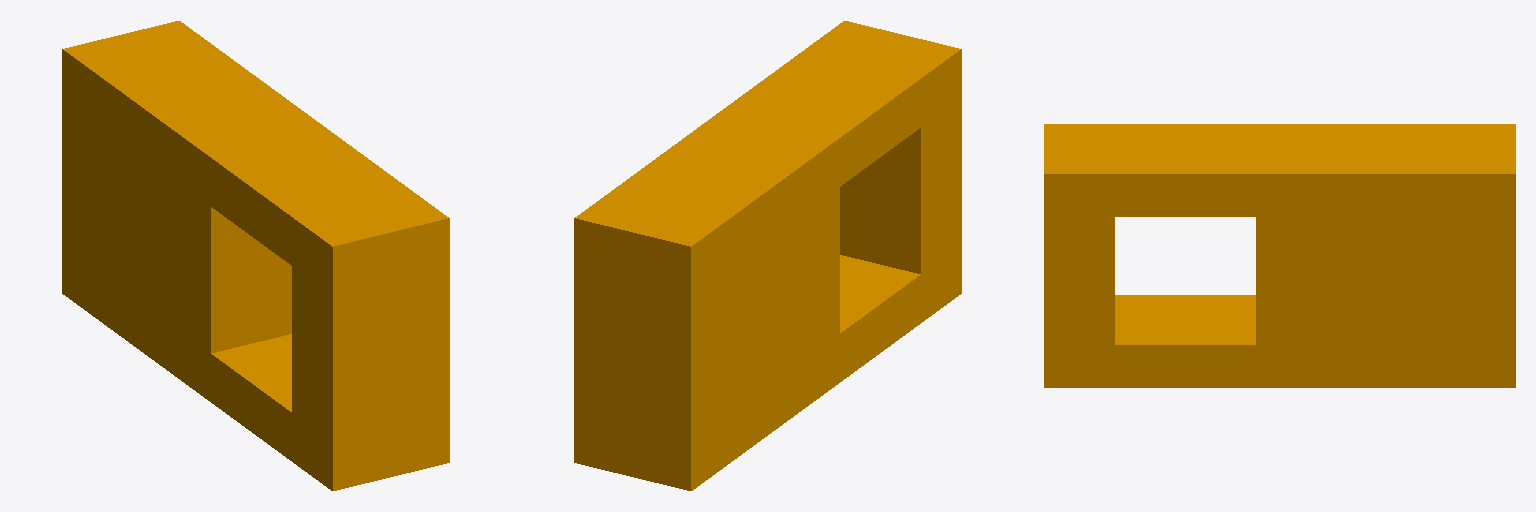
robot.urdf — shape_wall_two_holes:
<?xml version="1.0"?>
<robot name="shape_wall_two_holes">
    <link name="shape_wall_two_holes">
        <visual>
            <origin rpy="-1.5708 0 0" xyz="0 0 0"/>
            <geometry>
                <mesh filename="shape_wall_two_holes/shape_wall_one_square.obj"/>
            </geometry>
        </visual>
        <collision>
            <origin xyz="0.0 0.0 0.0"/>
            <geometry>
                <mesh filename="shape_wall_two_holes/shape_wall_one_square.obj"/>
            </geometry>
            <!-- <sdf resolution="256"/> -->
        </collision>
        <inertial>
            <origin xyz="0.0 0.0 0.0"/>
            <mass value="500"/>
            <friction value="1.0"/>
            <inertia ixx="1000.0" ixy="0"  ixz="0" iyy="1000.0" iyz="0" izz="1000.0" />
        </inertial>
        <gazebo>
            <static>true</static>
        </gazebo>
    </link>
</robot>

--- Facts derived from the render (not from the file) ---
Views: 3 orthographic renders of the robot side by side, from view 1: azimuth 30°, elevation 25°; view 2: azimuth 150°, elevation 25°; view 3: azimuth 270°, elevation 25°.
Robot: shape_wall_two_holes — 1 links, 0 joints (none); root link shape_wall_two_holes; default pose: every joint at zero.
Links seen in each view (by area): view 1: shape_wall_two_holes; view 2: shape_wall_two_holes; view 3: shape_wall_two_holes.
Link boxes in pixels (x1=…): shape_wall_two_holes: x1=62, y1=21, x2=449, y2=490; shape_wall_two_holes: x1=574, y1=21, x2=961, y2=490; shape_wall_two_holes: x1=1044, y1=124, x2=1515, y2=387.
Bounding box of the posed robot: 0.25 × 1 × 0.5 m (x, y, z).
1 mesh visuals loaded from 1 distinct referenced files (1 OBJ).